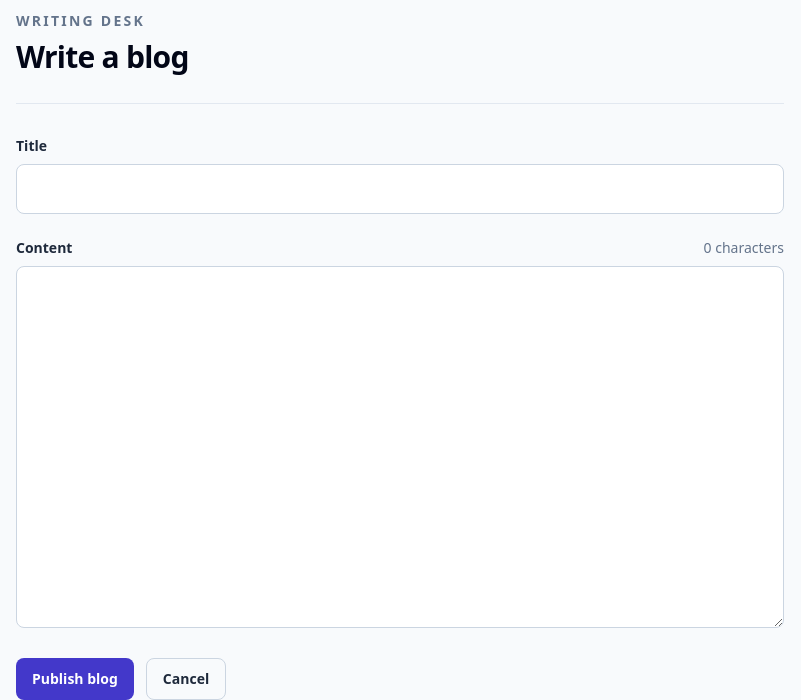
it: WriteBlog › shows inline required errors when both fields are empty
This screenshot has width=801, height=700.
(page scrolled)
What coordinates should you click on to do the following:
click the button "Publish blog"
I would click on:
 (75, 679)
Its box is [16,658,134,699].
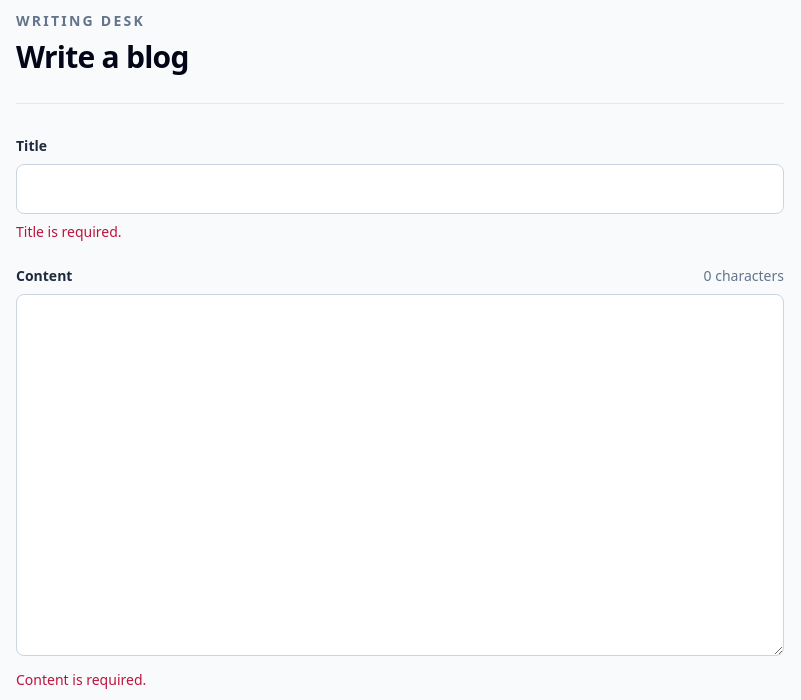
expect the text "Title is required." is shown: met, box [16,222,122,241]
expect the text "Content is required." is shown: met, box [16,670,146,689]
